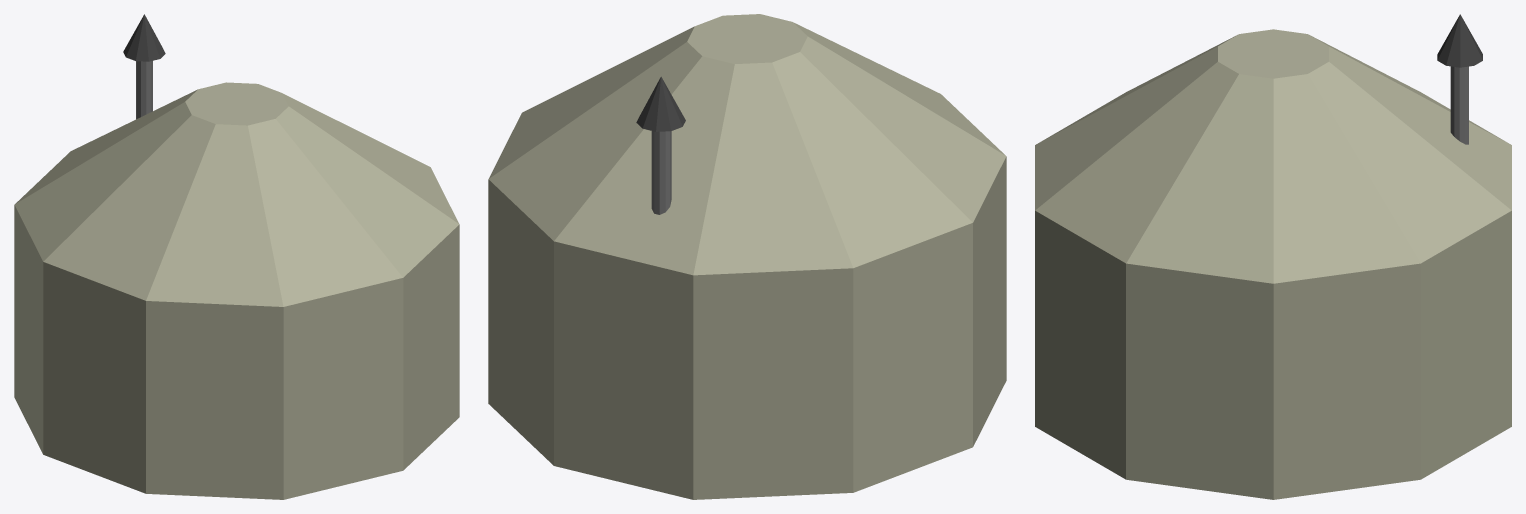
File: Yurt 2.fbx
The picture shows the model from 3 angles, left to right: view 1: azimuth 30°, elevation 25°; view 2: azimuth 150°, elevation 25°; view 3: azimuth 270°, elevation 25°; orthographic projection. The views are drawn at different scales.
Parts seen in each view (by area): view 1: polySurface11; view 2: polySurface11; view 3: polySurface11.
Part boxes in pixels (bbox=[...]): polySurface11: bbox=[14, 14, 459, 499]; polySurface11: bbox=[488, 14, 1006, 499]; polySurface11: bbox=[1035, 14, 1511, 499].
Size of the model in its own units: 13.11 by 10.82 by 12.47.
